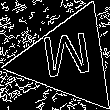M_S: (40, 31, 96, 88)
